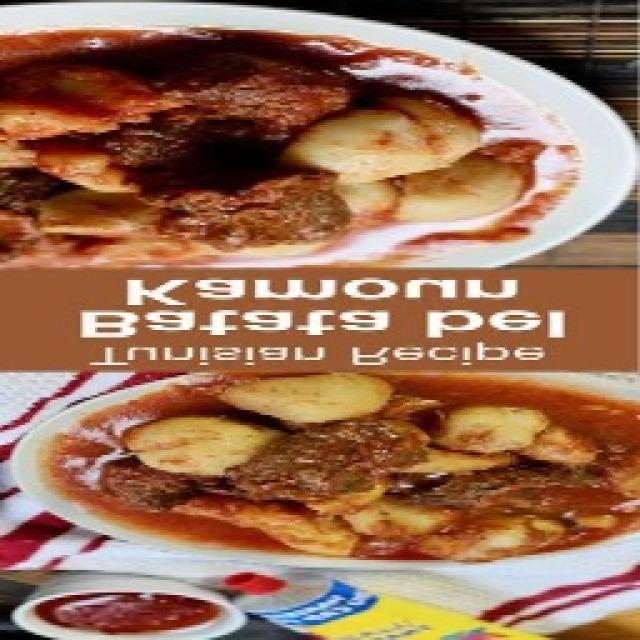Kamouniya: (36, 342, 640, 564), (0, 46, 543, 267), (126, 278, 390, 336)
